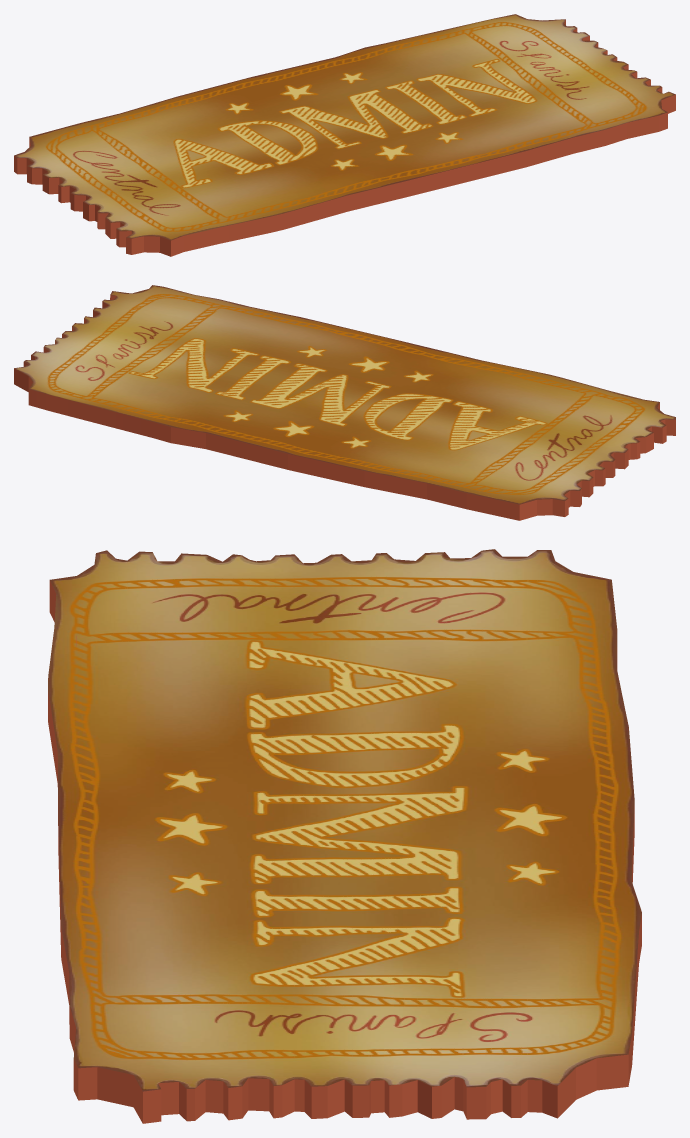
The model's file is boleto dorado.fbx.
3 renders of one model, top to bottom at view 1: azimuth 30°, elevation 25°; view 2: azimuth 150°, elevation 25°; view 3: azimuth 270°, elevation 25°, orthographic. The views are drawn at different scales.
Visible parts, largest first — view 1: boleto_dorado; view 2: boleto_dorado; view 3: boleto_dorado.
Part boxes in pixels (left/top/right/bottom): boleto_dorado: left=14, top=14, right=675, bottom=256; boleto_dorado: left=14, top=285, right=675, bottom=520; boleto_dorado: left=48, top=549, right=641, bottom=1123.
Size of the model in its own units: 200 by 5.57 by 92.54.
Materials: 2 (1 with a texture image).
